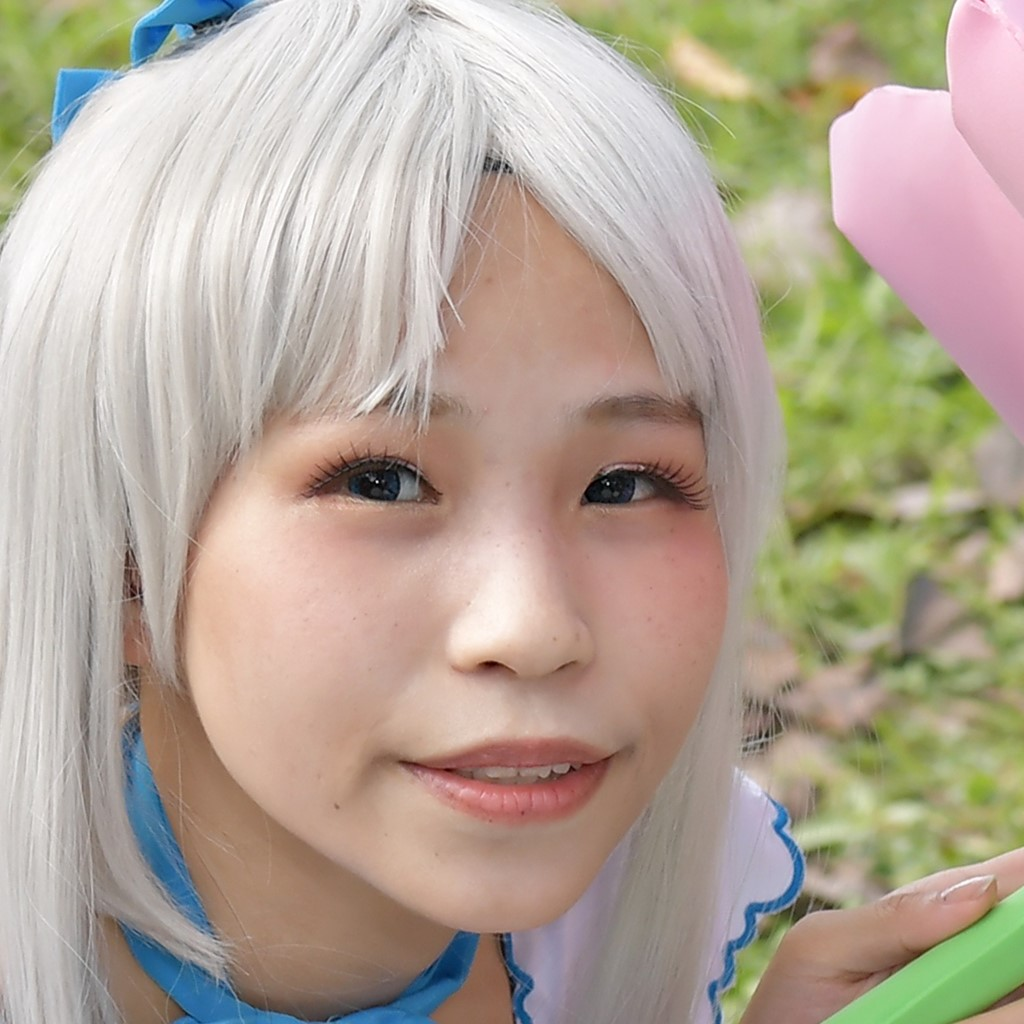sin_mascara: (125, 133, 730, 979)
